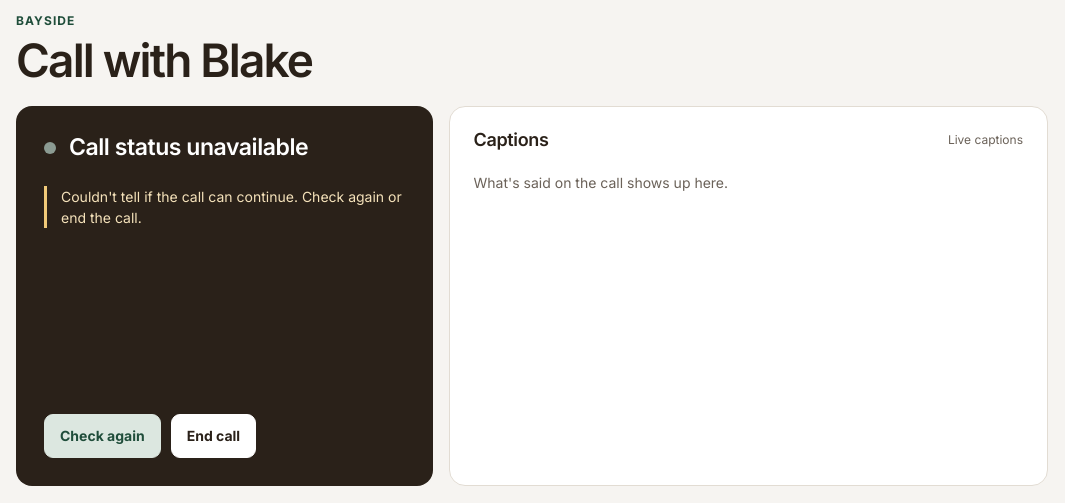
Test case: requires explicit active authorization after an ambiguous status null
Later steps or results of the test are not shown.
Expected: the button "Reconnect" is not shown
Expected: the button "End call" is shown, [171,414,256,458]
Click the button "Check again" at (102, 436), box [44,414,161,458]
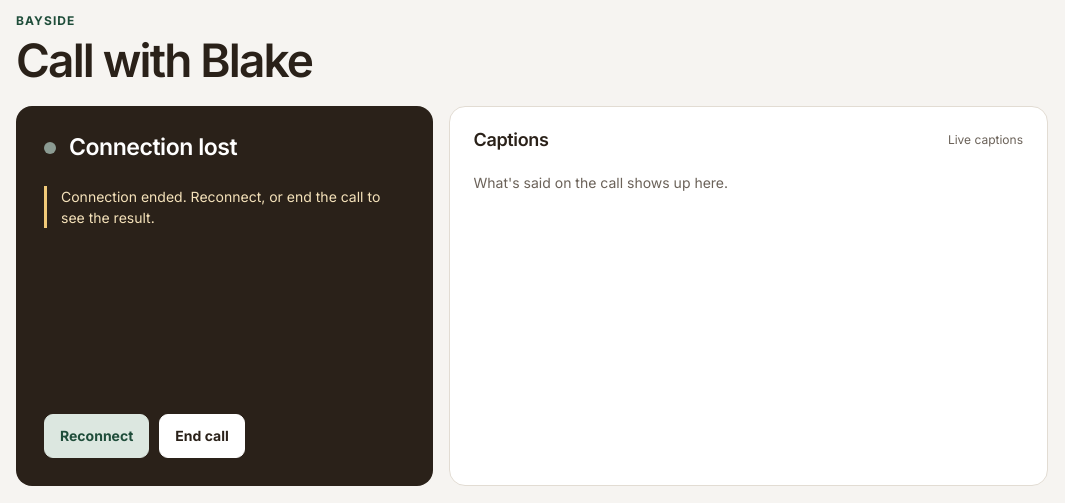
Expected: the button "Reconnect" is shown, [44,414,149,458]
